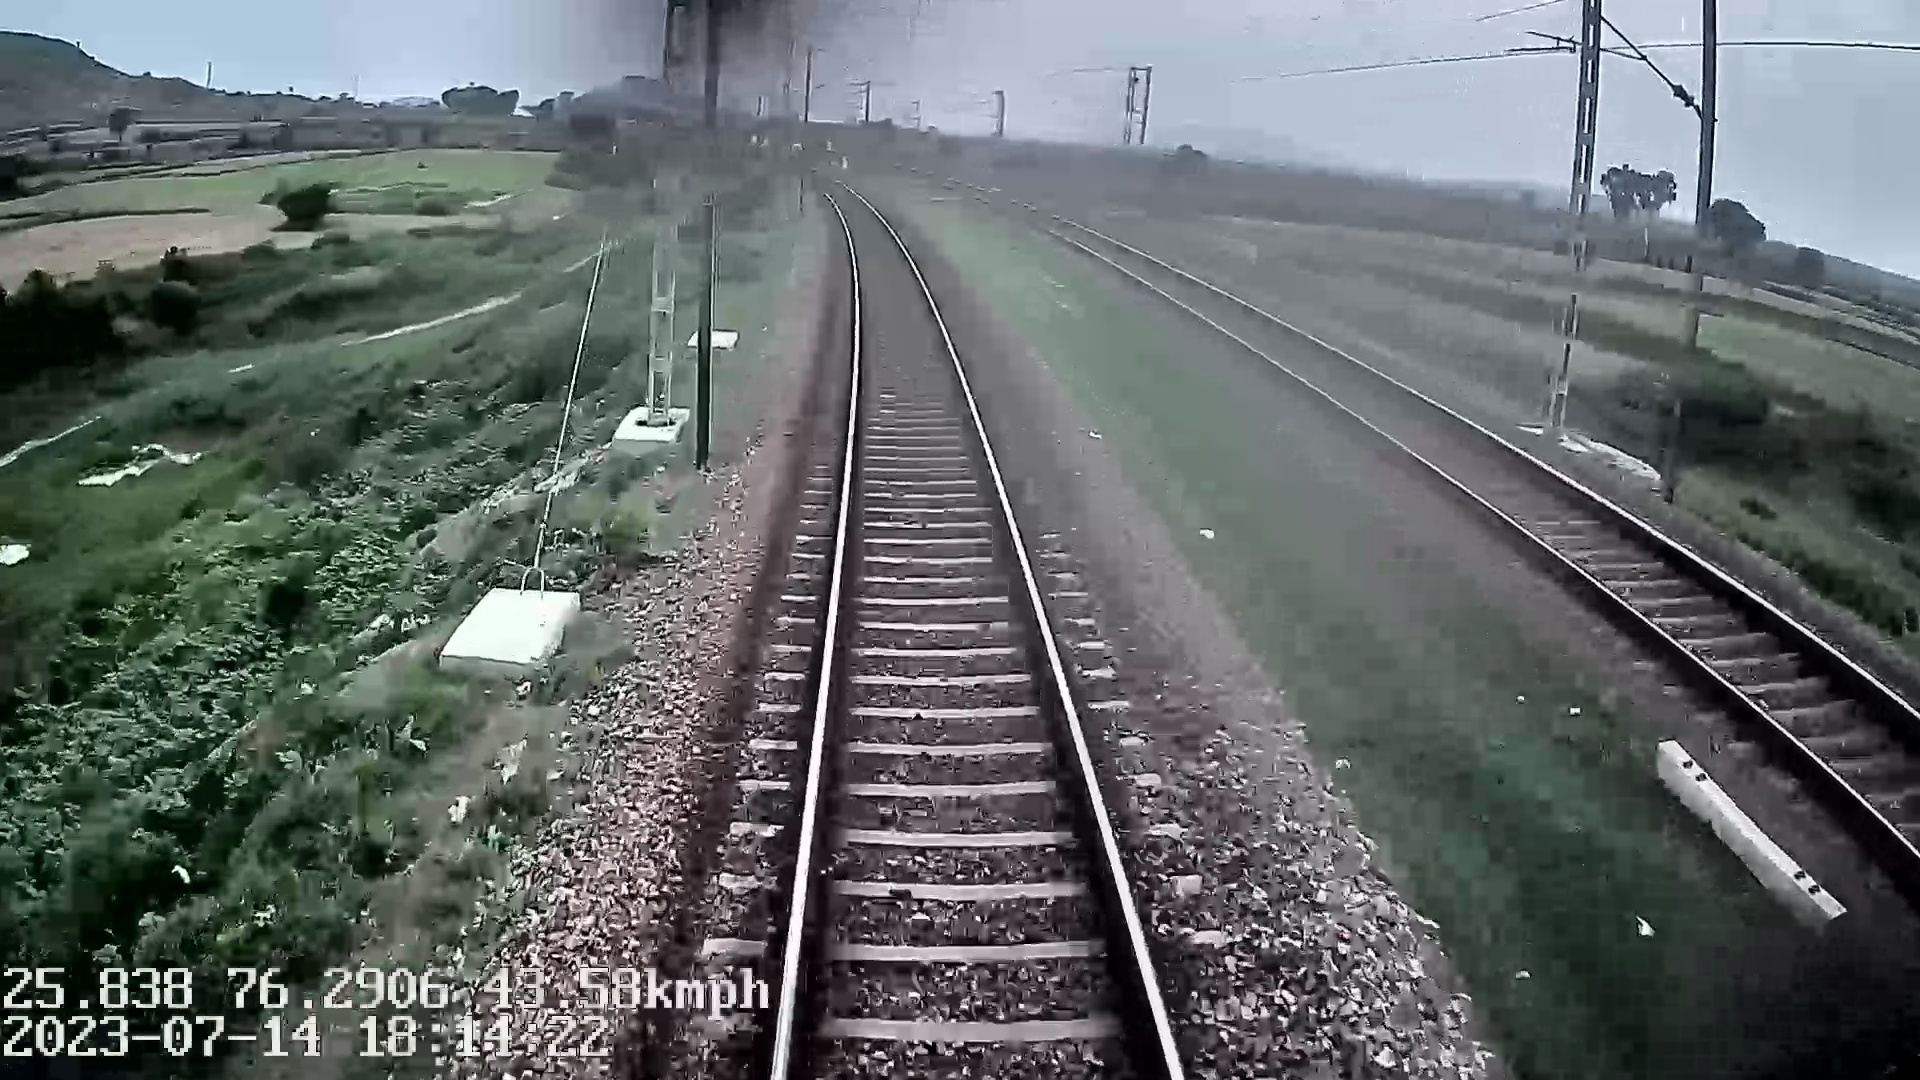track1: (783, 203, 1164, 1039)
track2: (1079, 241, 1908, 806)
